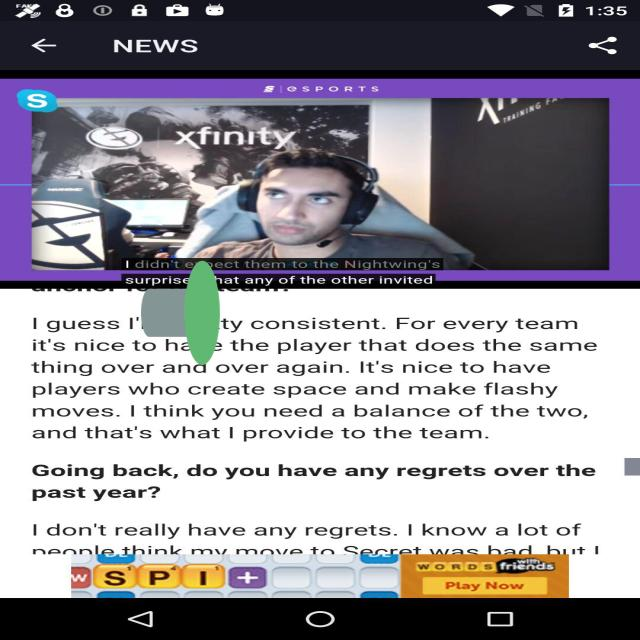social proof: (141, 197, 220, 429)
